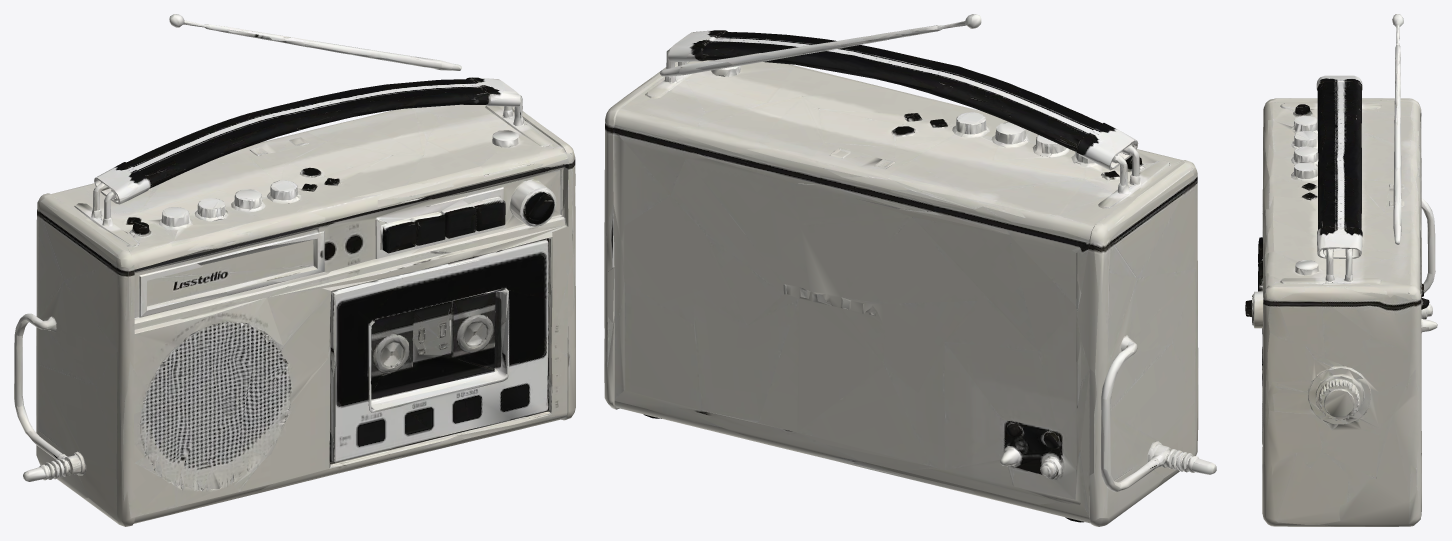
The model's file is sony-09.glb.
The picture shows the model from 3 angles, left to right: view 1: azimuth 30°, elevation 25°; view 2: azimuth 150°, elevation 25°; view 3: azimuth 270°, elevation 25°; orthographic projection. The views are drawn at different scales.
Bounding box in the file's own units: 1.9 × 1.5 × 0.6825.
Materials: 1 (1 with a texture image).
